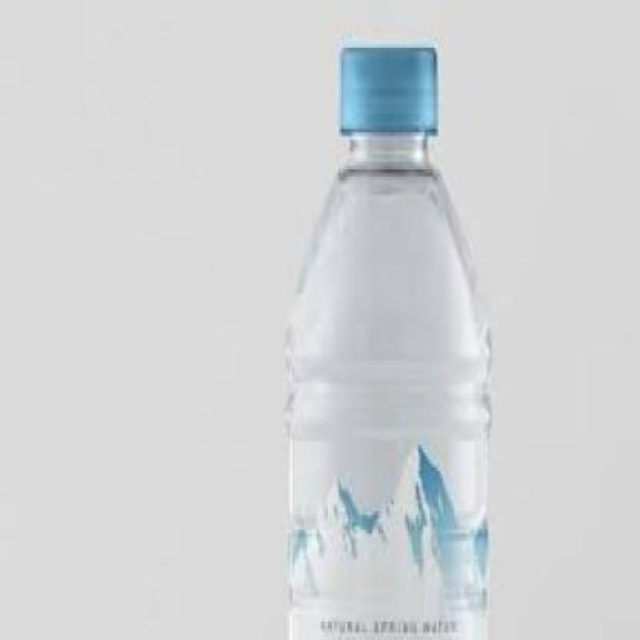trash: (286, 42, 489, 638)
